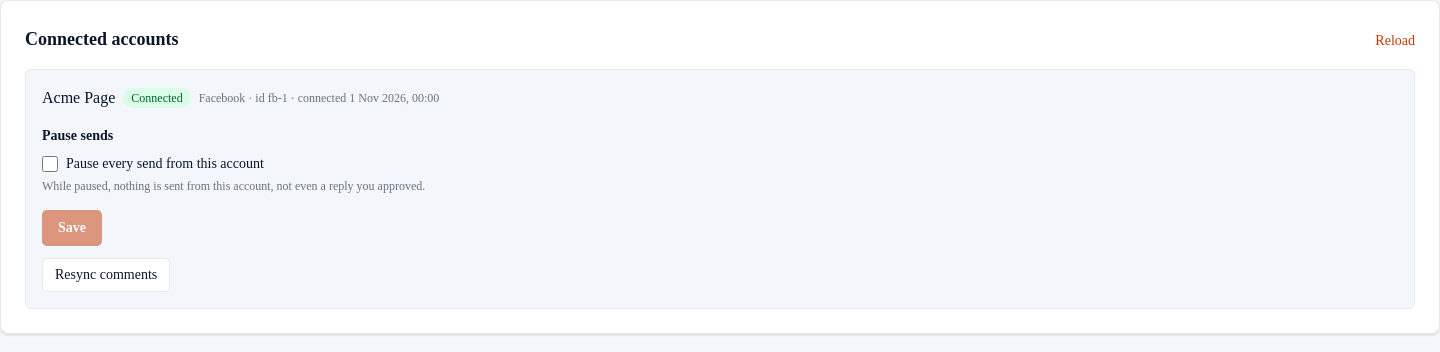
it: Save is off until something changes, and nothing is sent by ticking the box
The image size is (1440, 352).
Step 1. Click the checkbox labelled "Pause every send from this account" → (50, 164), box [42,156,58,172]
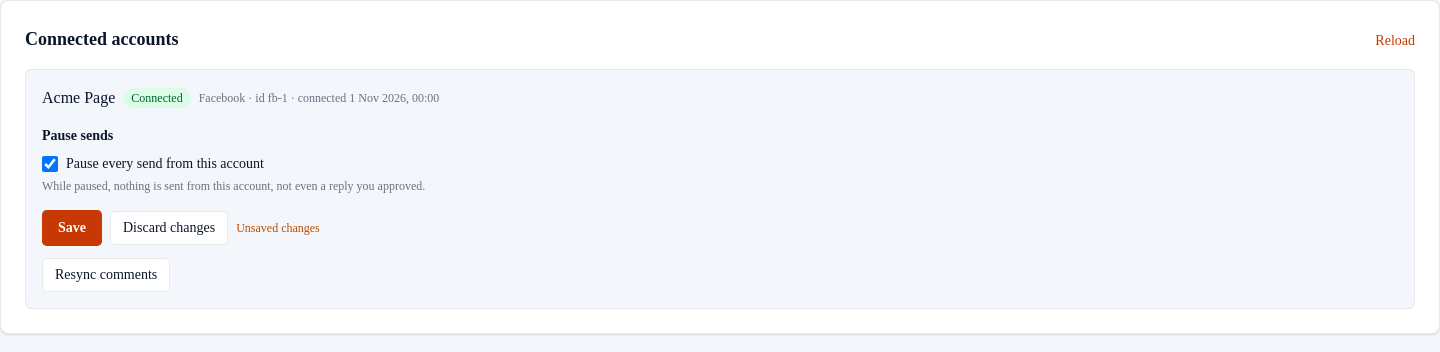
Check: the text "Unsaved changes" is shown, box [236,220,320,236]
